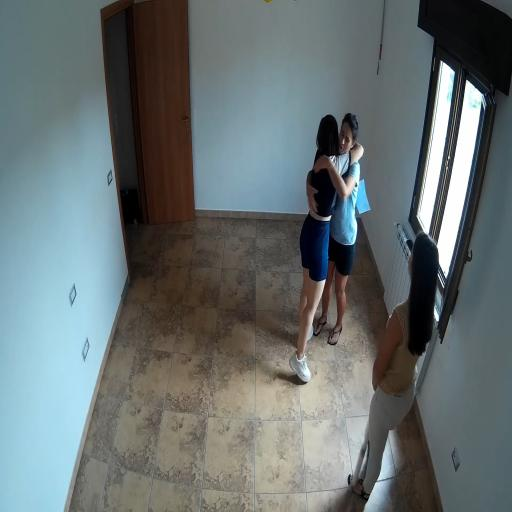nao-violencia: (278, 98, 374, 394)
